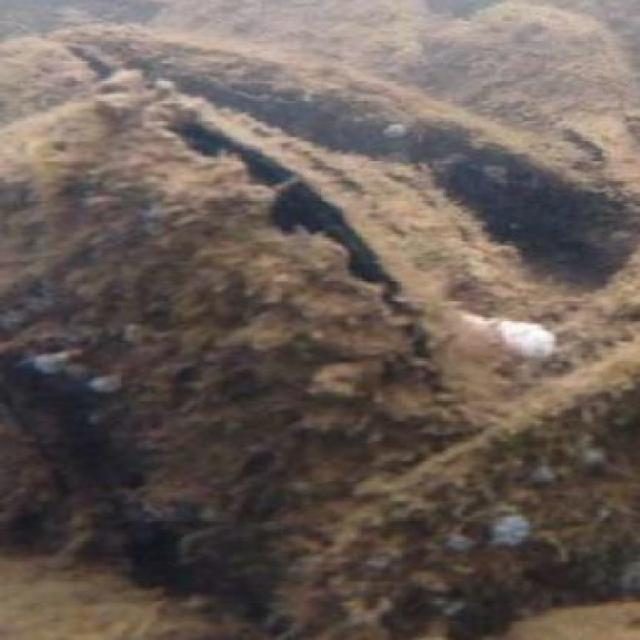Oyster- Indeterminate: (156, 0, 449, 64)
Oyster-Closed: (86, 22, 640, 226)
Oyster-Open: (0, 89, 572, 598), (0, 17, 137, 133)
